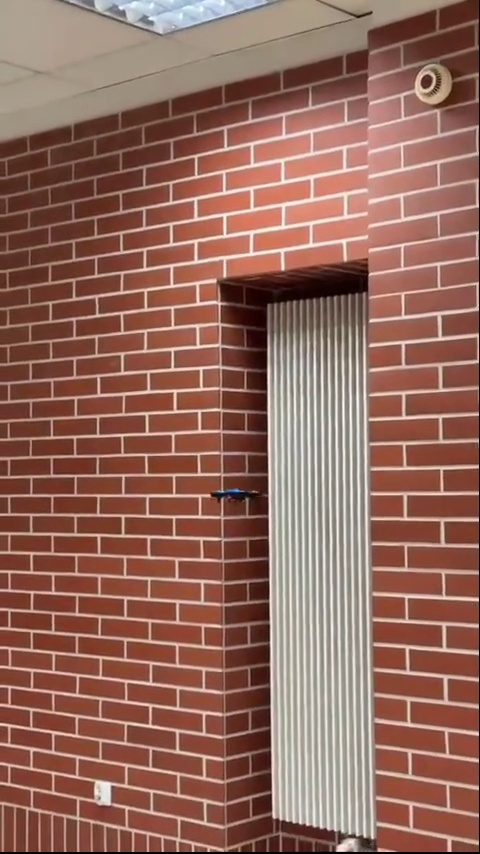drone: (206, 482, 265, 507)
